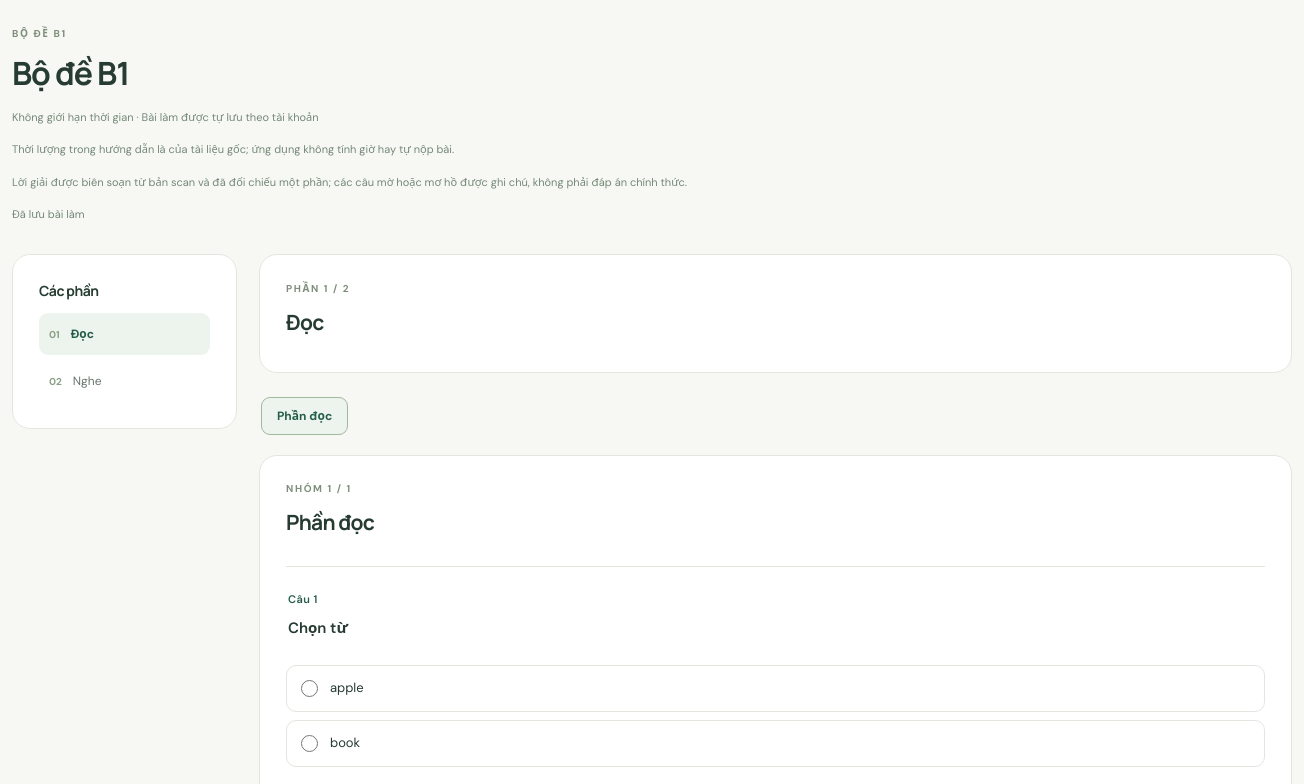
it: Bộ đề B1 › retains the answer and warns instead of overwriting a conflicting draft
expect the text "Chọn từ" is shown: met, box [288,618,348,638]
What coordinates should you click on to do the following:
click the radio button labelled "book"
I would click on:
 (310, 743)
Its box is [301,735,318,752].
(page scrolled)
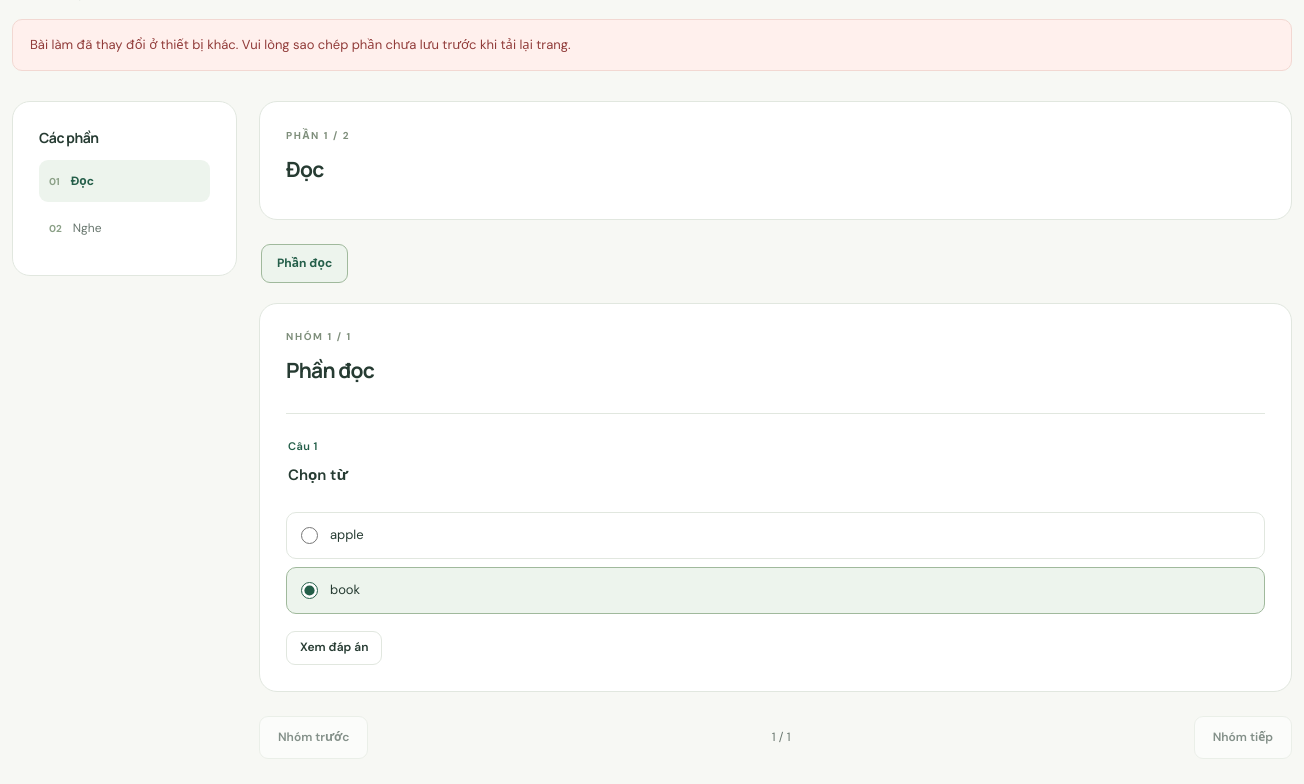
expect the radio button labelled "book" is checked: met, box [301,582,318,599]
expect the 2nd message shows "thiết bị khác": met, box [30,36,570,53]
